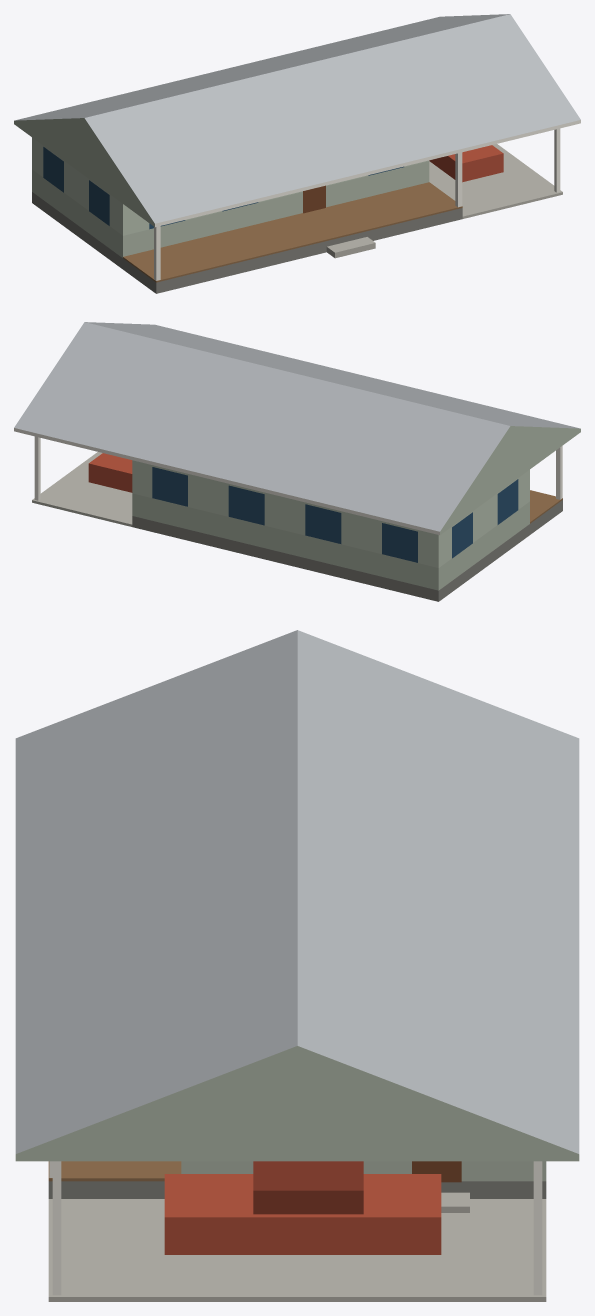
The model's file is house_17x9_lod1.glb.
3 views of the same model, one above another, from view 1: azimuth 30°, elevation 25°; view 2: azimuth 150°, elevation 25°; view 3: azimuth 270°, elevation 25° (orthographic). The views are drawn at different scales.
Parts seen in each view (by area): view 1: house; view 2: house; view 3: house.
Part boxes in pixels (<box>): house: <box>14,14,580,293</box>; house: <box>14,322,580,601</box>; house: <box>15,630,579,1301</box>.
Size of the model in its own units: 17.8 by 5.3 by 10.2.
